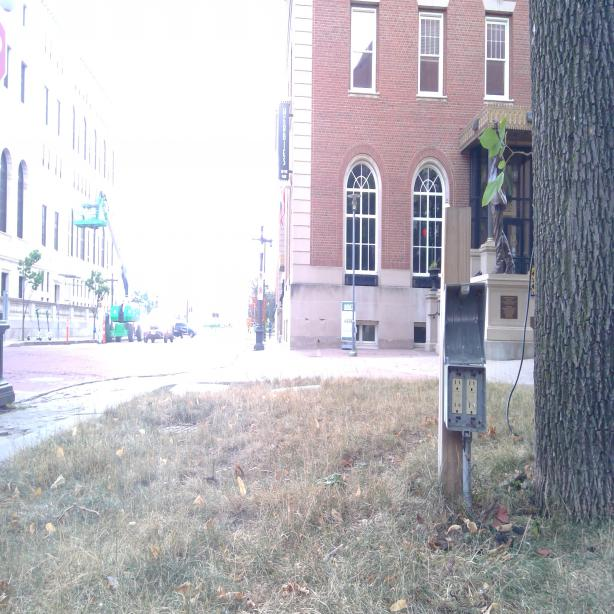typeb: (453, 396, 462, 414), (452, 378, 462, 392), (468, 380, 477, 395), (468, 400, 476, 416)
